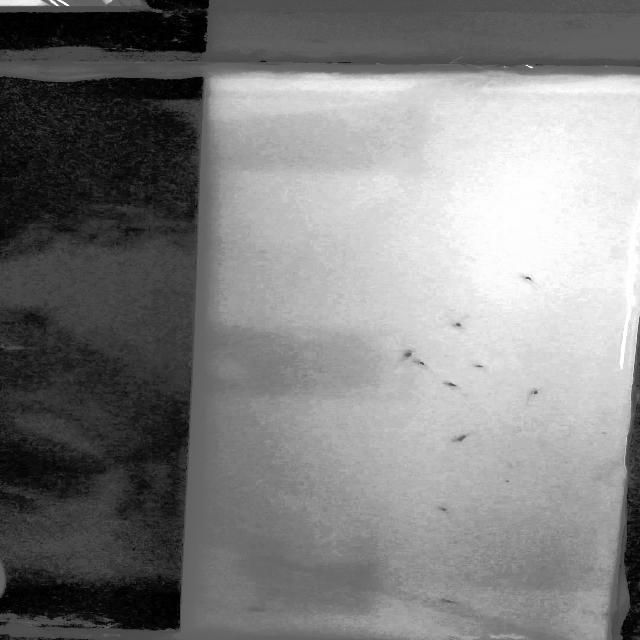shrimp: (441, 379, 473, 396), (522, 388, 542, 408), (450, 319, 480, 332), (396, 349, 422, 360), (453, 431, 475, 442), (417, 360, 437, 371), (520, 274, 541, 284), (248, 606, 272, 614), (441, 598, 464, 606), (468, 362, 488, 371), (432, 507, 452, 513)
